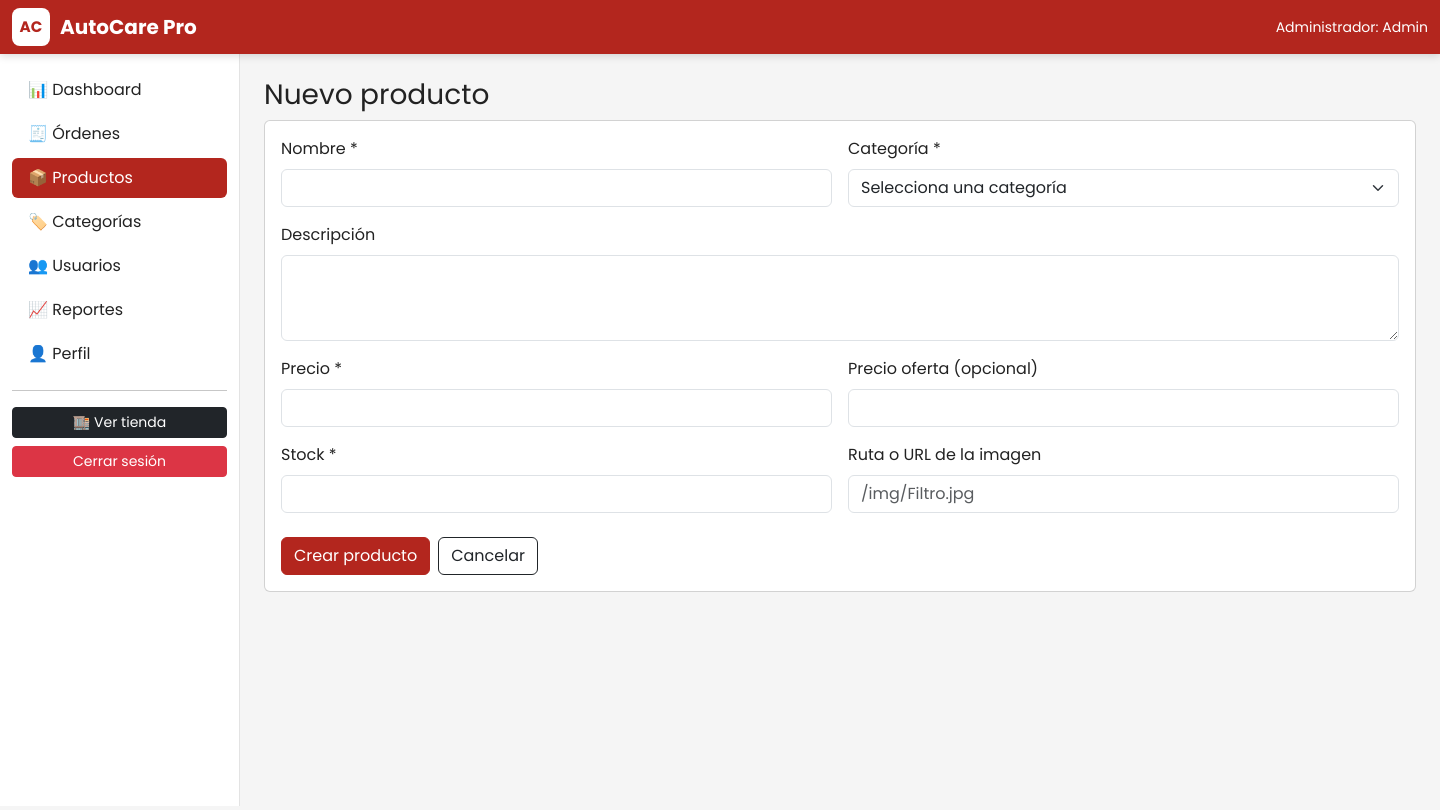
it: Panel de administración › productos (CRUD) › no crea el producto si el formulario es inválido
The width and height of the screenshot is (1440, 810).
Type "Re" into the field labelled "Nombre *". click: (556, 188)
box: [281,169,832,207]
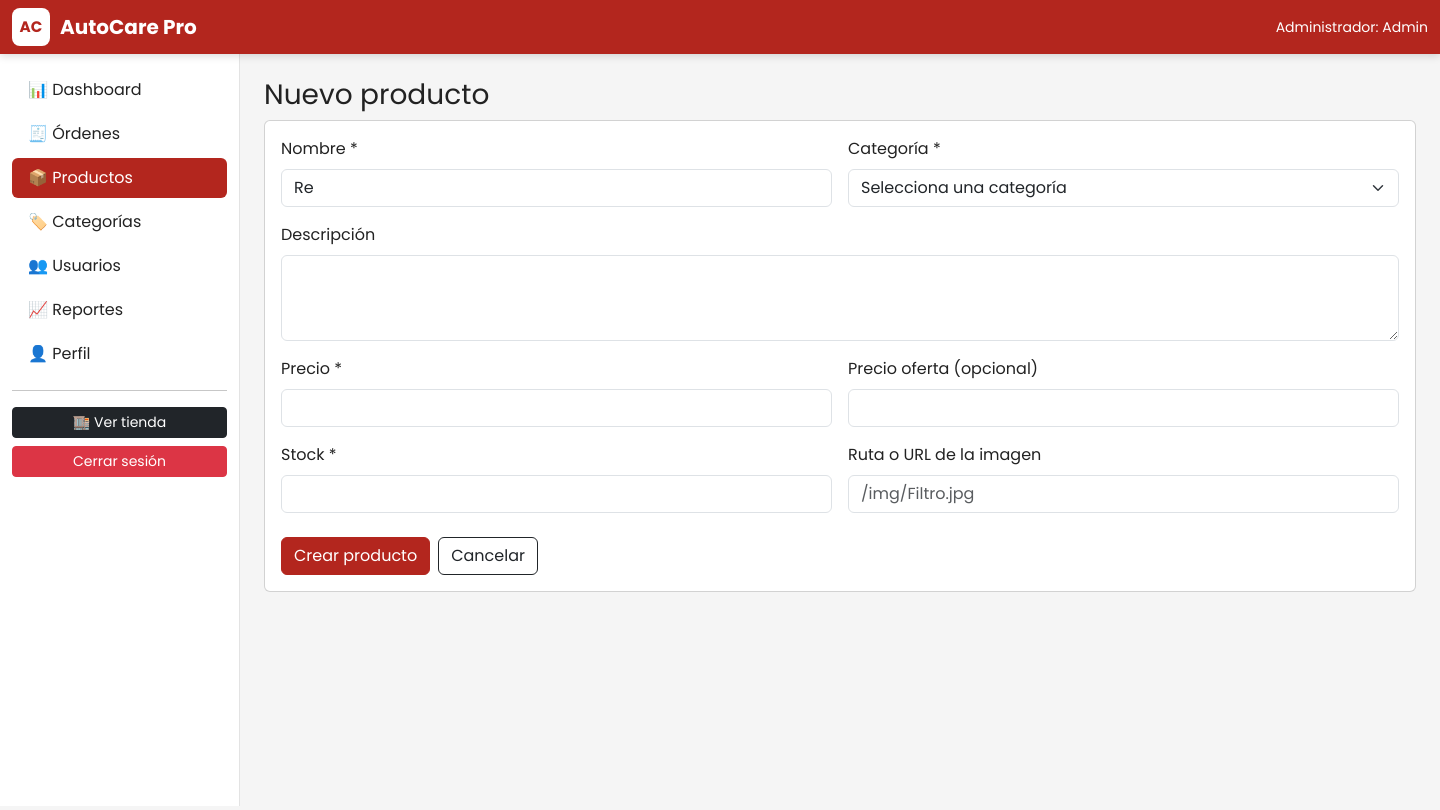
Type "1000" into the number field labelled "Precio *". click: (556, 408)
box: [281,389,832,427]
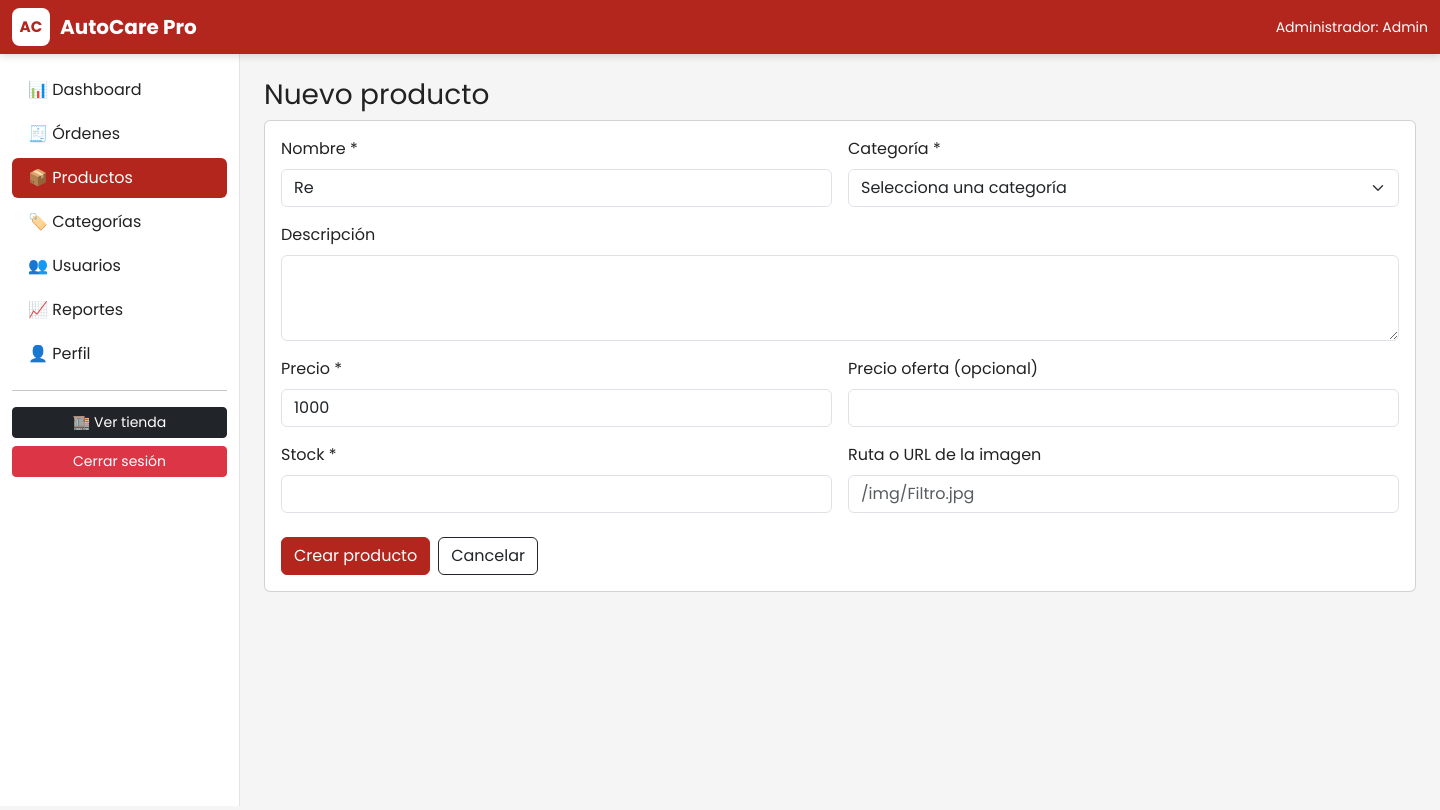
Type "2000" into the number field labelled "Precio oferta (opcional)". click: (1124, 408)
box: [848,389,1399,427]
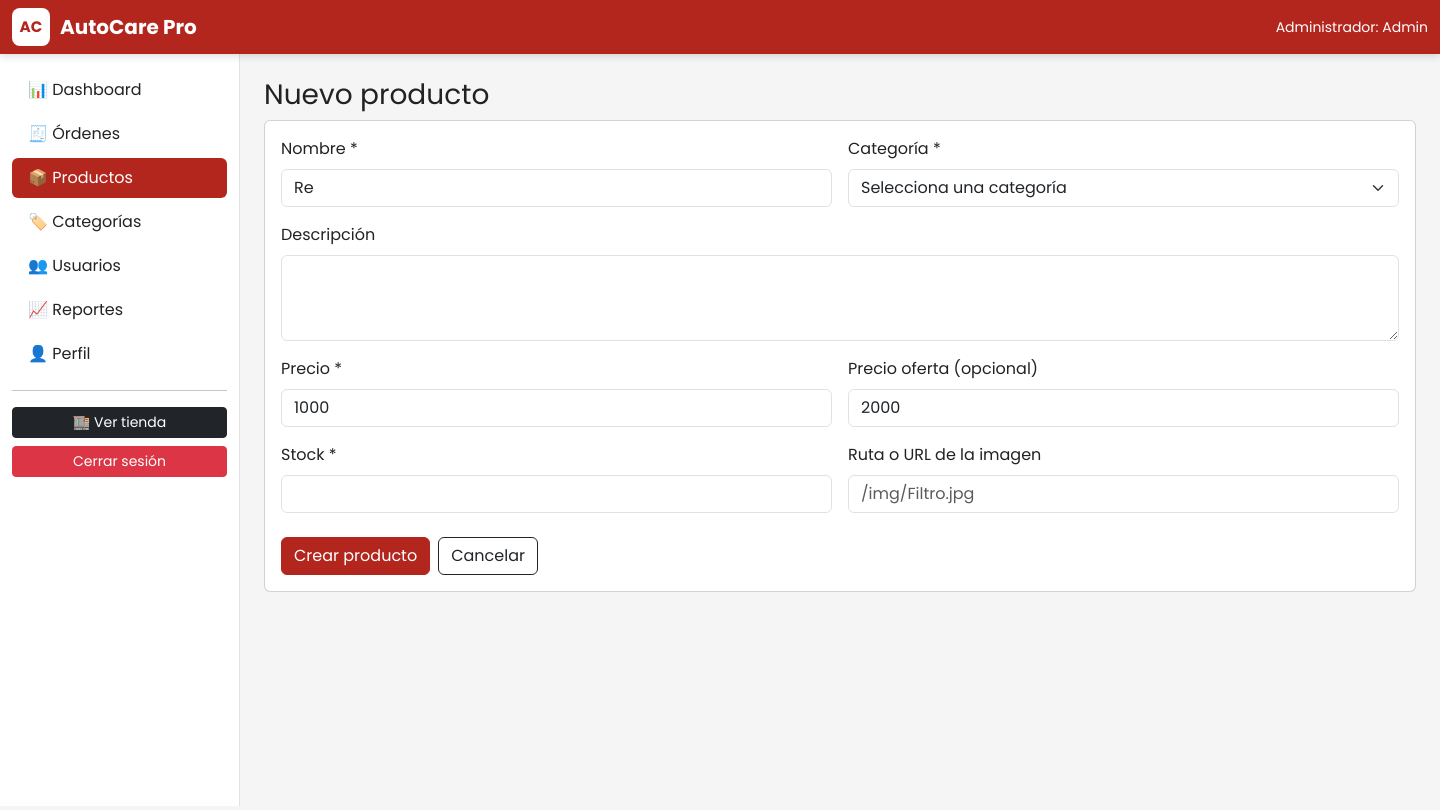
Click the button "Crear producto". click: (356, 556)
box: [281,537,430,575]
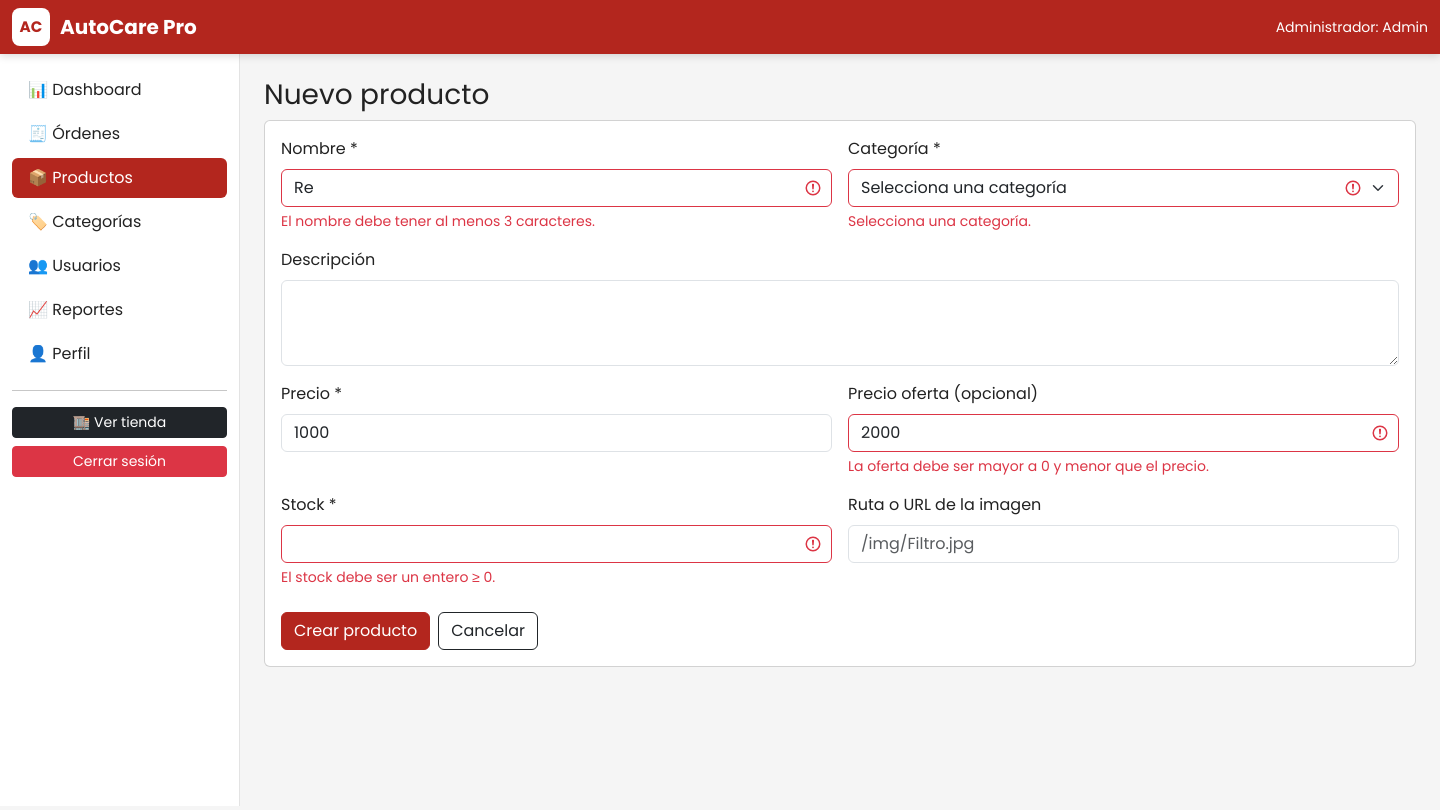
Check: the text "El nombre debe tener al menos 3 caracteres." is shown, box [281,211,595,231]
Check: the text "La oferta debe ser mayor a 0 y menor que el precio." is shown, box [848,456,1209,476]
